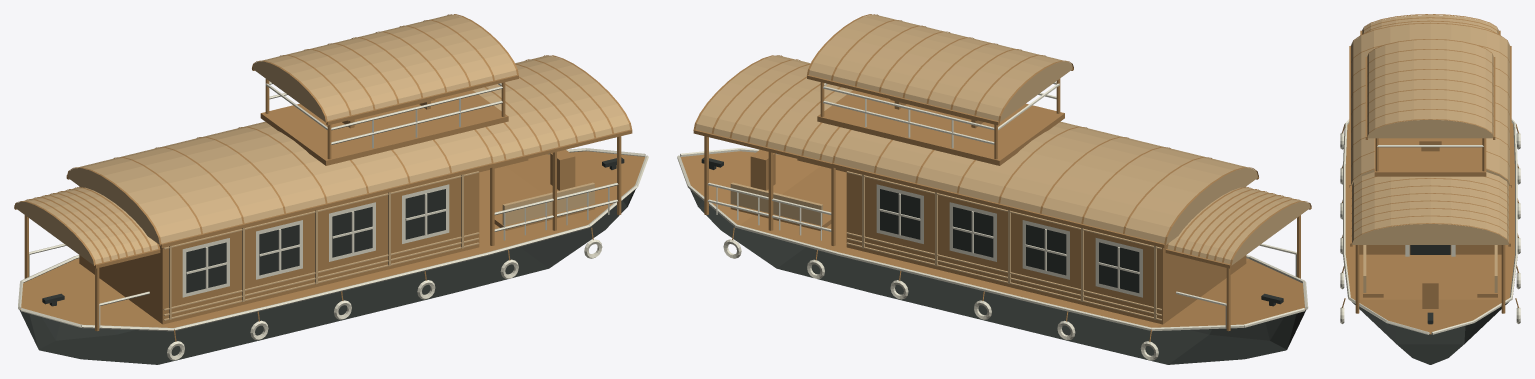
Rendered from KeralaHouseboat.glb.
3 views of the same model, side by side, from view 1: azimuth 30°, elevation 25°; view 2: azimuth 150°, elevation 25°; view 3: azimuth 270°, elevation 25° (orthographic). The views are drawn at different scales.
Parts seen in each view (by area): view 1: KeralaHouseboat_Woven_Thatch, KeralaHouseboat_Bamboo_And_Timber, KeralaHouseboat_Hull_And_Window, KeralaHouseboat_Cream_Trim_And_Fenders; view 2: KeralaHouseboat_Woven_Thatch, KeralaHouseboat_Bamboo_And_Timber, KeralaHouseboat_Hull_And_Window, KeralaHouseboat_Cream_Trim_And_Fenders; view 3: KeralaHouseboat_Woven_Thatch, KeralaHouseboat_Bamboo_And_Timber, KeralaHouseboat_Hull_And_Window, KeralaHouseboat_Cream_Trim_And_Fenders.
Boxes of the visible parts, x1,y1,x2,y2 form: KeralaHouseboat_Woven_Thatch: [15, 14, 630, 320]; KeralaHouseboat_Bamboo_And_Timber: [14, 14, 644, 341]; KeralaHouseboat_Hull_And_Window: [19, 157, 635, 364]; KeralaHouseboat_Cream_Trim_And_Fenders: [18, 82, 648, 360]; KeralaHouseboat_Woven_Thatch: [695, 14, 1310, 320]; KeralaHouseboat_Bamboo_And_Timber: [680, 14, 1311, 341]; KeralaHouseboat_Hull_And_Window: [690, 157, 1305, 364]; KeralaHouseboat_Cream_Trim_And_Fenders: [677, 82, 1308, 360]; KeralaHouseboat_Woven_Thatch: [1351, 15, 1509, 292]; KeralaHouseboat_Bamboo_And_Timber: [1342, 14, 1518, 334]; KeralaHouseboat_Hull_And_Window: [1352, 245, 1508, 364]; KeralaHouseboat_Cream_Trim_And_Fenders: [1340, 118, 1520, 334].
Bounding box in the file's own units: 18.07 × 6.57 × 5.24.
